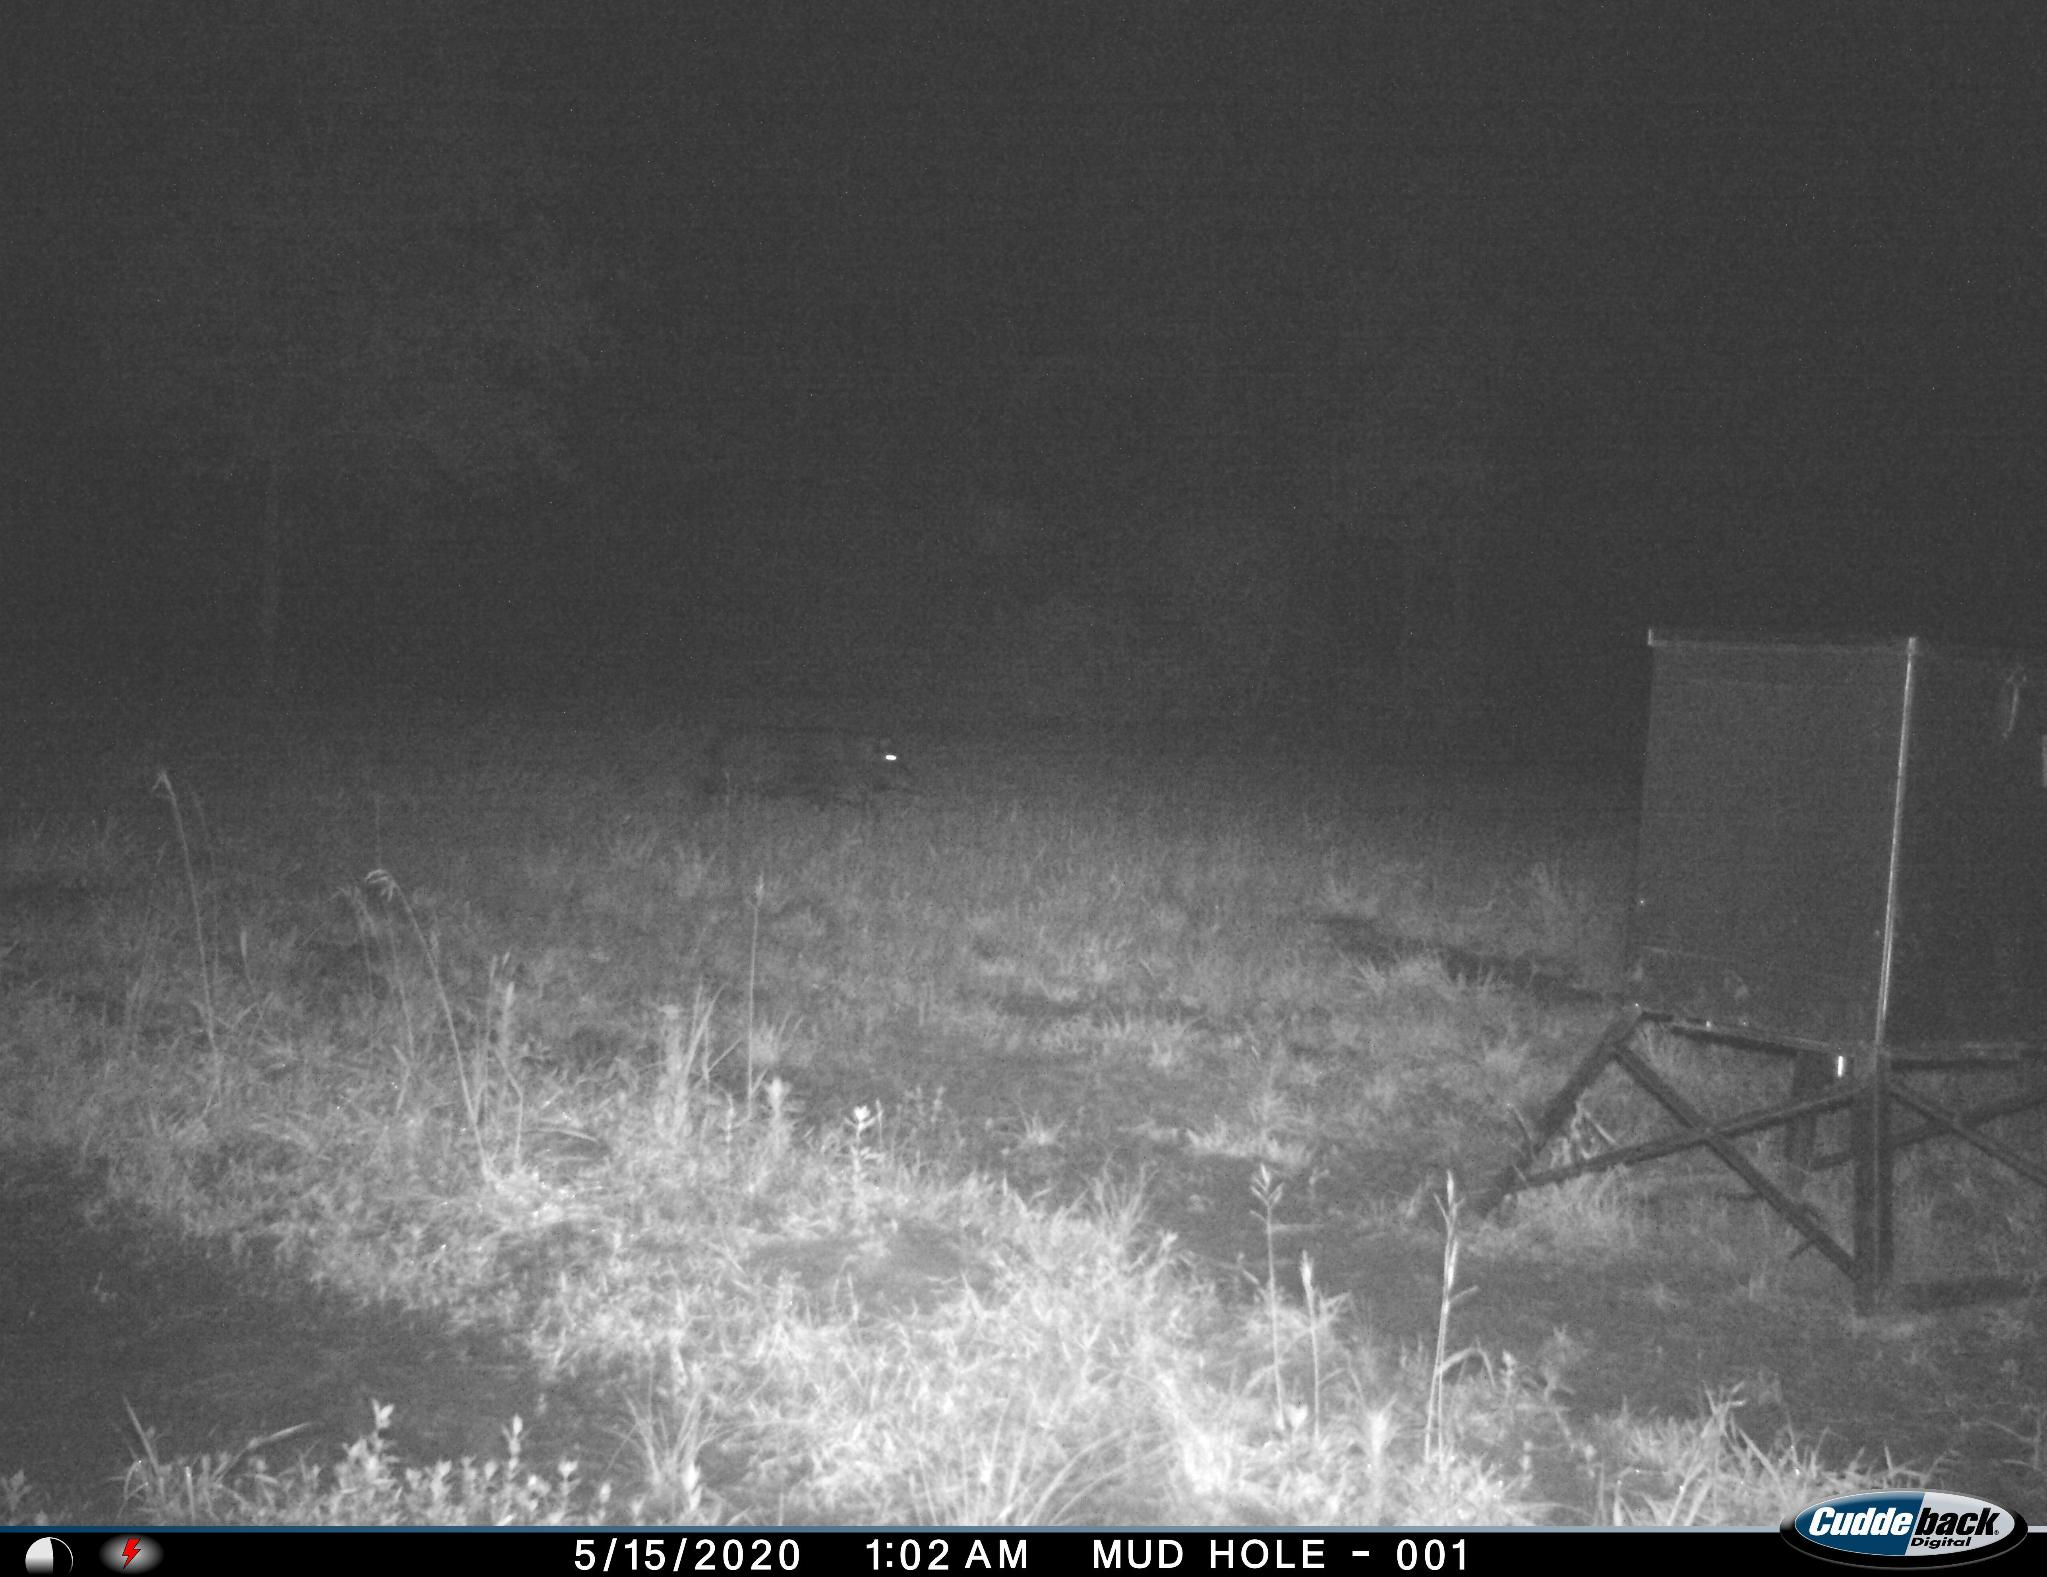Hog: (697, 706, 921, 822)
